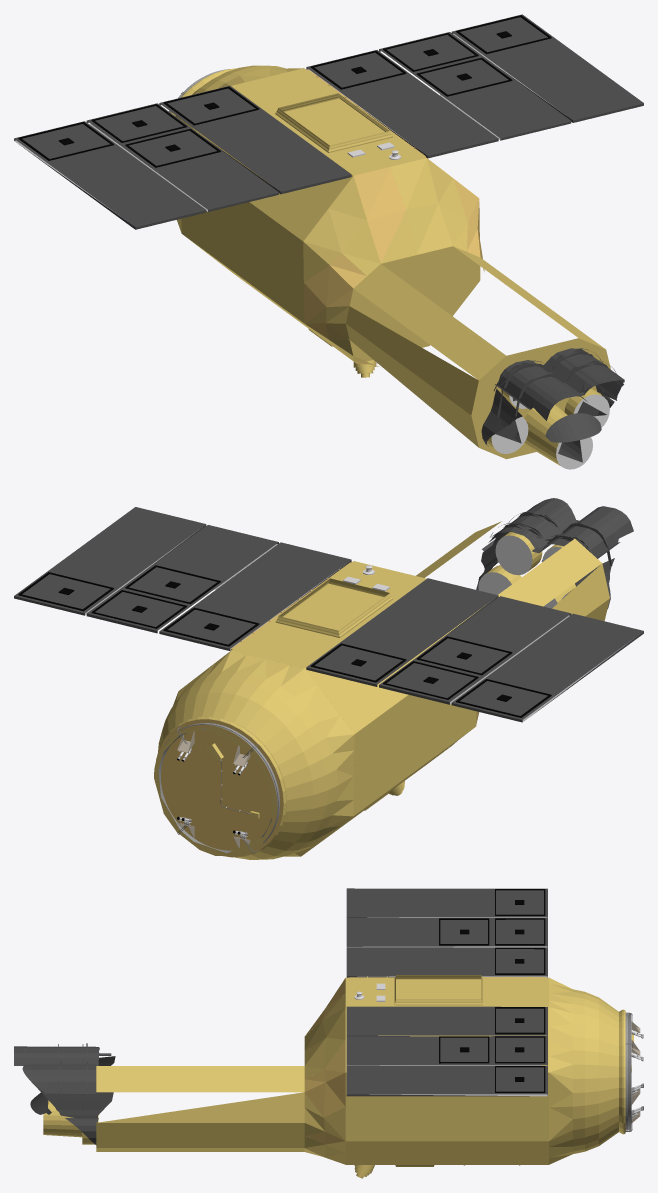
File: suzaku.glb
The picture shows the model from 3 angles, top to bottom: view 1: azimuth 30°, elevation 25°; view 2: azimuth 150°, elevation 25°; view 3: azimuth 270°, elevation 25°; orthographic projection. The views are drawn at different scales.
Parts seen in each view (by area): view 1: Layer_0; view 2: Layer_0; view 3: Layer_0.
Part boxes in pixels (x1,y1,x2,y2): Layer_0: [14, 14, 643, 469]; Layer_0: [14, 498, 643, 859]; Layer_0: [14, 888, 643, 1178].
Bounding box in the file's own units: 5.22 × 2.16 × 6.75.
Materials: 2 (2 with a texture image).
